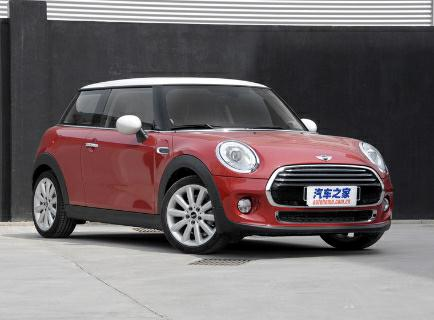MINI: (14, 74, 407, 262)
